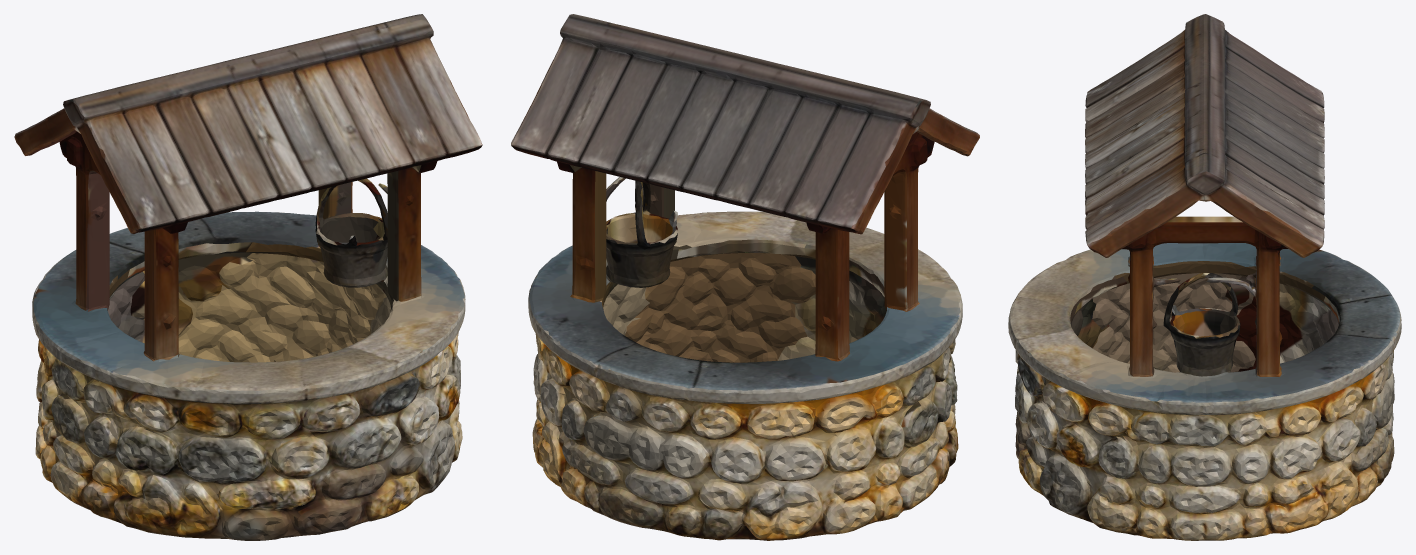
The model's file is mdl_well_001.glb.
3 renders of one model, left to right at view 1: azimuth 30°, elevation 25°; view 2: azimuth 150°, elevation 25°; view 3: azimuth 270°, elevation 25°, orthographic. The views are drawn at different scales.
Visible parts, largest first — view 1: tmp85mwlz6h.ply; view 2: tmp85mwlz6h.ply; view 3: tmp85mwlz6h.ply.
Boxes of the visible parts, bbox=[...] form: tmp85mwlz6h.ply: bbox=[14, 14, 482, 540]; tmp85mwlz6h.ply: bbox=[511, 14, 979, 540]; tmp85mwlz6h.ply: bbox=[1008, 14, 1401, 540].
Size of the model in its own units: 0.986 by 0.9896 by 0.956.
Materials: 1 (1 with a texture image).
